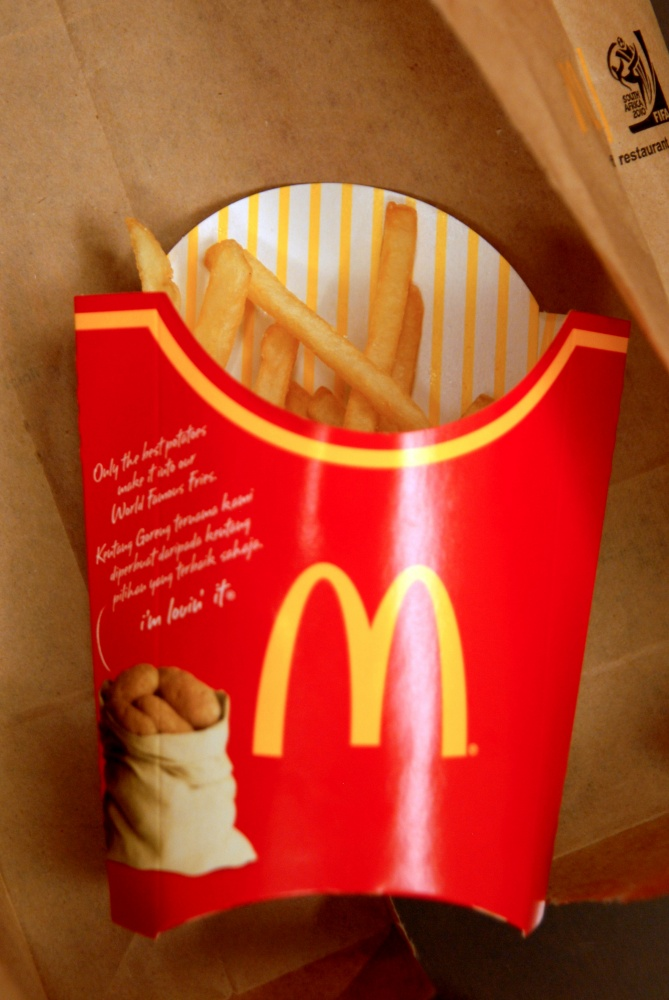mcdonalds: (236, 543, 479, 792)
